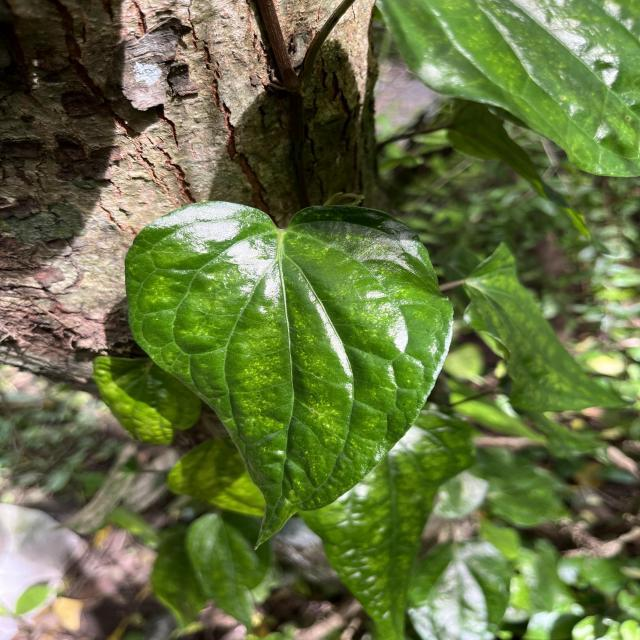Piper betle: (120, 198, 458, 554)
